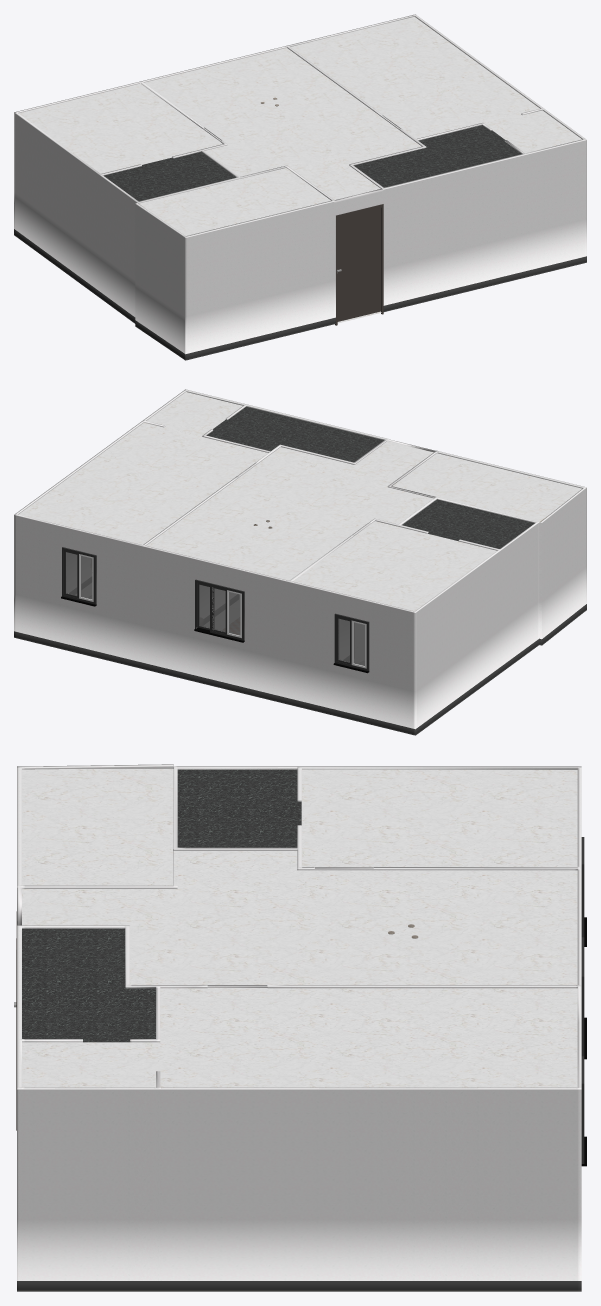
File: DEMO2interior-soloapartement-opt-v4.glb
3 views of the same model, one above another, from view 1: azimuth 30°, elevation 25°; view 2: azimuth 150°, elevation 25°; view 3: azimuth 270°, elevation 25° (orthographic). The views are drawn at different scales.
Parts seen in each view (by area): view 1: Object_8.003; view 2: Object_8.003; view 3: Object_8.003.
Part boxes in pixels (x1,y1,x2,y2): Object_8.003: (14, 14, 586, 360); Object_8.003: (14, 389, 586, 735); Object_8.003: (14, 764, 586, 1291).
Bounding box in the file's own units: 10.24 × 3.02 × 7.64.
44 materials, 25 textured.
